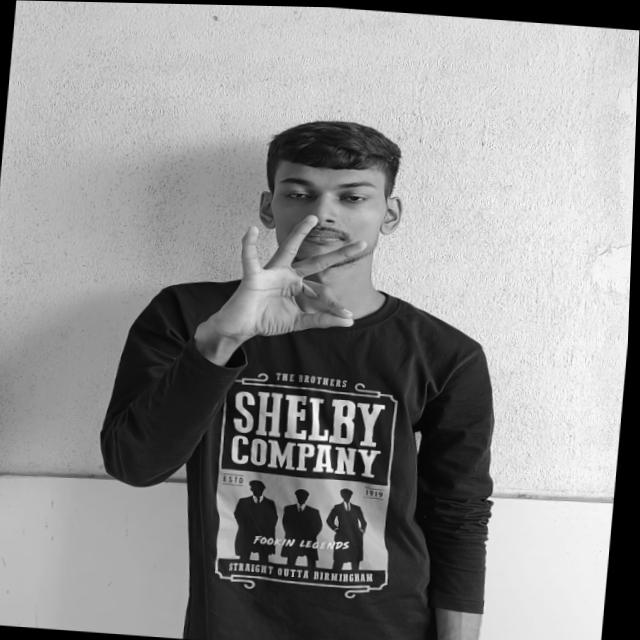Superb: (217, 205, 375, 356)
